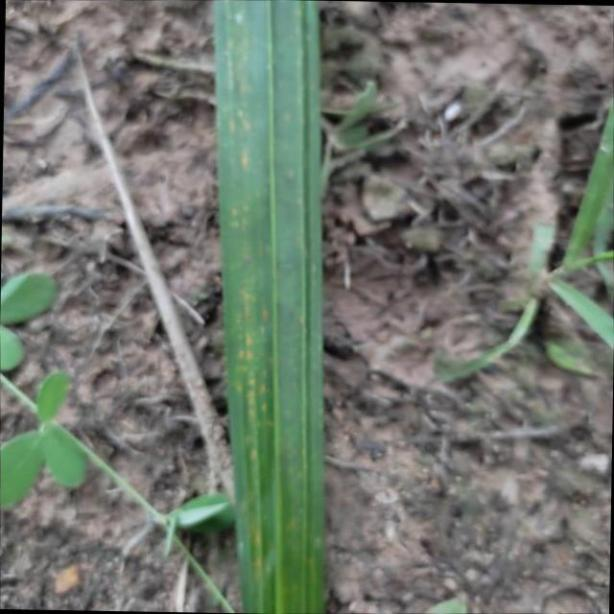Kalium: (208, 0, 329, 614)
